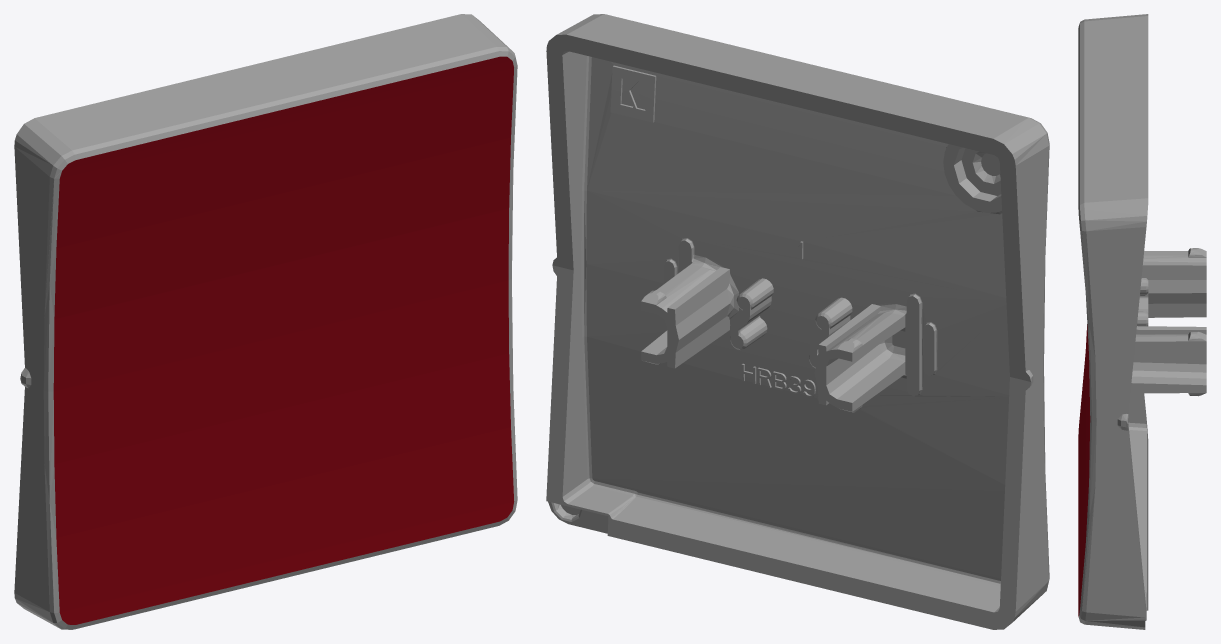
Rendered from switch1_obj.obj.
3 views of the same model, side by side, from view 1: azimuth 30°, elevation 25°; view 2: azimuth 150°, elevation 25°; view 3: azimuth 270°, elevation 25° (orthographic). The views are drawn at different scales.
Visible parts, largest first — view 1: 24, 20, 1, 39, 28, 6, 26, 22, 18, 14, 16, 12 (+9 smaller); view 2: 39, 1; view 3: 39, 1, 28, 26, 22, 24, 21, 34.
Boxes of the visible parts, x1,y1,x2,y2 form: 24: (53, 353, 508, 537); 20: (53, 209, 508, 391); 1: (24, 14, 508, 159); 39: (14, 15, 517, 629); 28: (56, 427, 513, 618); 6: (56, 61, 513, 248); 26: (61, 427, 513, 612); 22: (58, 353, 510, 537); 18: (54, 208, 508, 391); 14: (55, 137, 510, 319); 16: (54, 138, 509, 319); 12: (58, 68, 513, 247); 39: (546, 35, 1049, 629); 1: (556, 14, 1040, 411); 39: (1079, 205, 1206, 629); 1: (1078, 14, 1206, 341); 28: (1079, 354, 1085, 612); 26: (1080, 419, 1085, 606); 22: (1085, 358, 1088, 542); 24: (1085, 324, 1089, 472); 21: (1089, 338, 1091, 480); 34: (1078, 424, 1079, 585).
Bounding box in the file's own units: 45 × 44.1 × 11.9.
